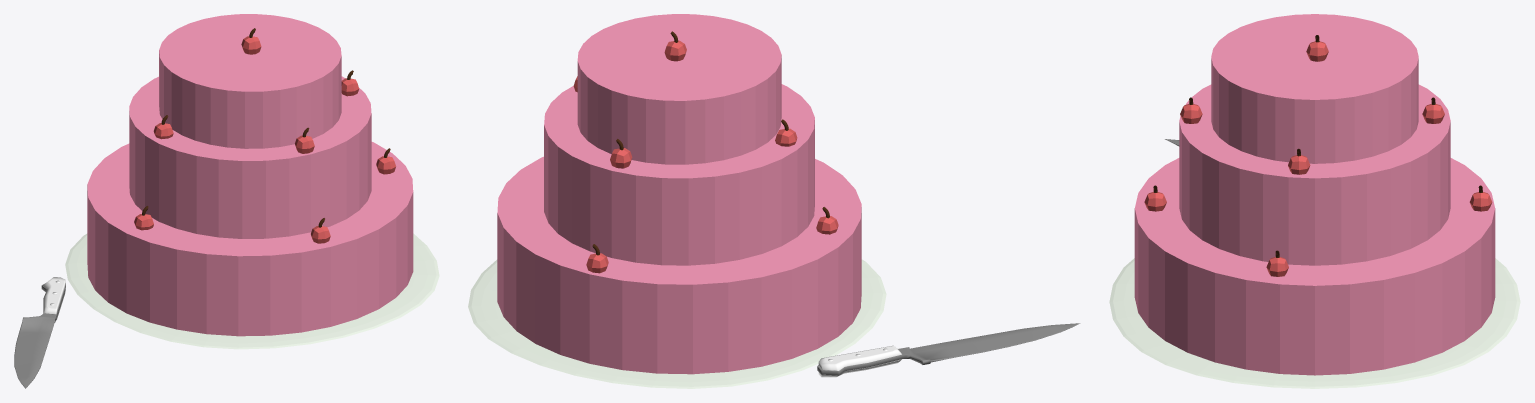
File: Cake with knife.glb
3 renders of one model, left to right at view 1: azimuth 30°, elevation 25°; view 2: azimuth 150°, elevation 25°; view 3: azimuth 270°, elevation 25°, orthographic. The views are drawn at different scales.
Visible parts, largest first — view 1: knife; view 2: knife; view 3: knife.
Part boxes in pixels (box(x1,y1,x2,y2)): knife: box(14, 14, 439, 388); knife: box(468, 14, 1080, 388); knife: box(1109, 14, 1520, 388).
Size of the model in its own units: 6.18 by 3.18 by 4.34.
